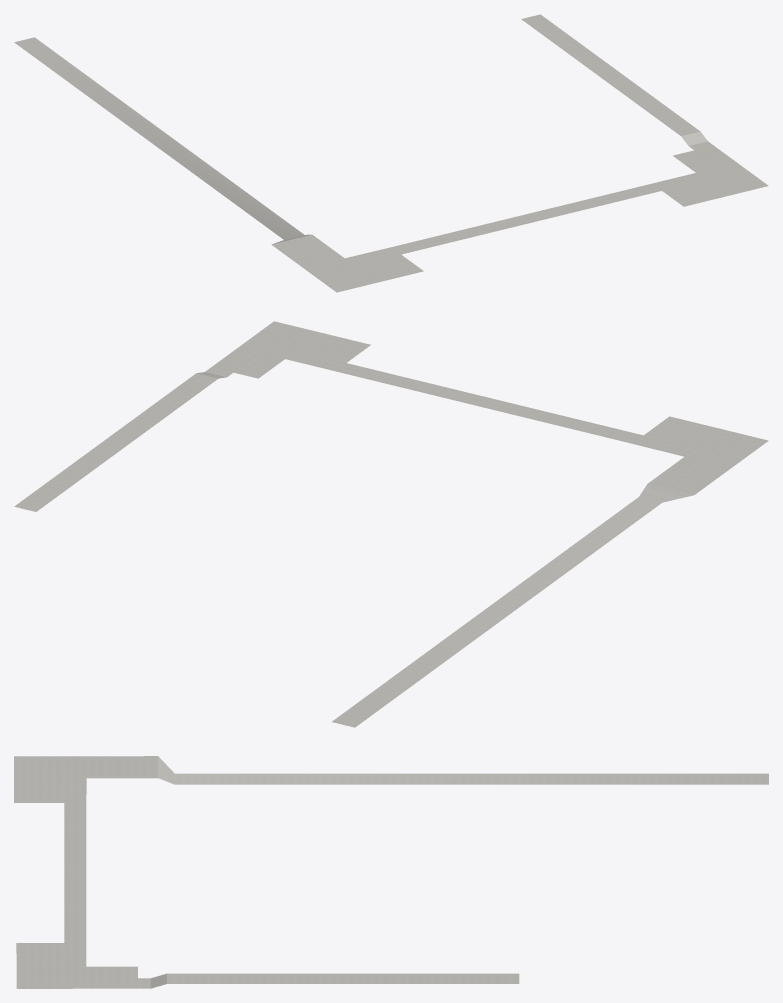
The model's file is четвертый этаж потолок.fbx.
The picture shows the model from 3 angles, top to bottom: view 1: azimuth 30°, elevation 25°; view 2: azimuth 150°, elevation 25°; view 3: azimuth 270°, elevation 25°; orthographic projection. The views are drawn at different scales.
Visible parts, largest first — view 1: Plane020; view 2: Plane020; view 3: Plane020.
Part boxes in pixels (bbox=[...]): Plane020: bbox=[14, 14, 768, 292]; Plane020: bbox=[14, 321, 768, 727]; Plane020: bbox=[14, 756, 768, 988].
Bounding box in the file's own units: 6394 × 145 × 8769.
Materials: 1 (1 with a texture image).
